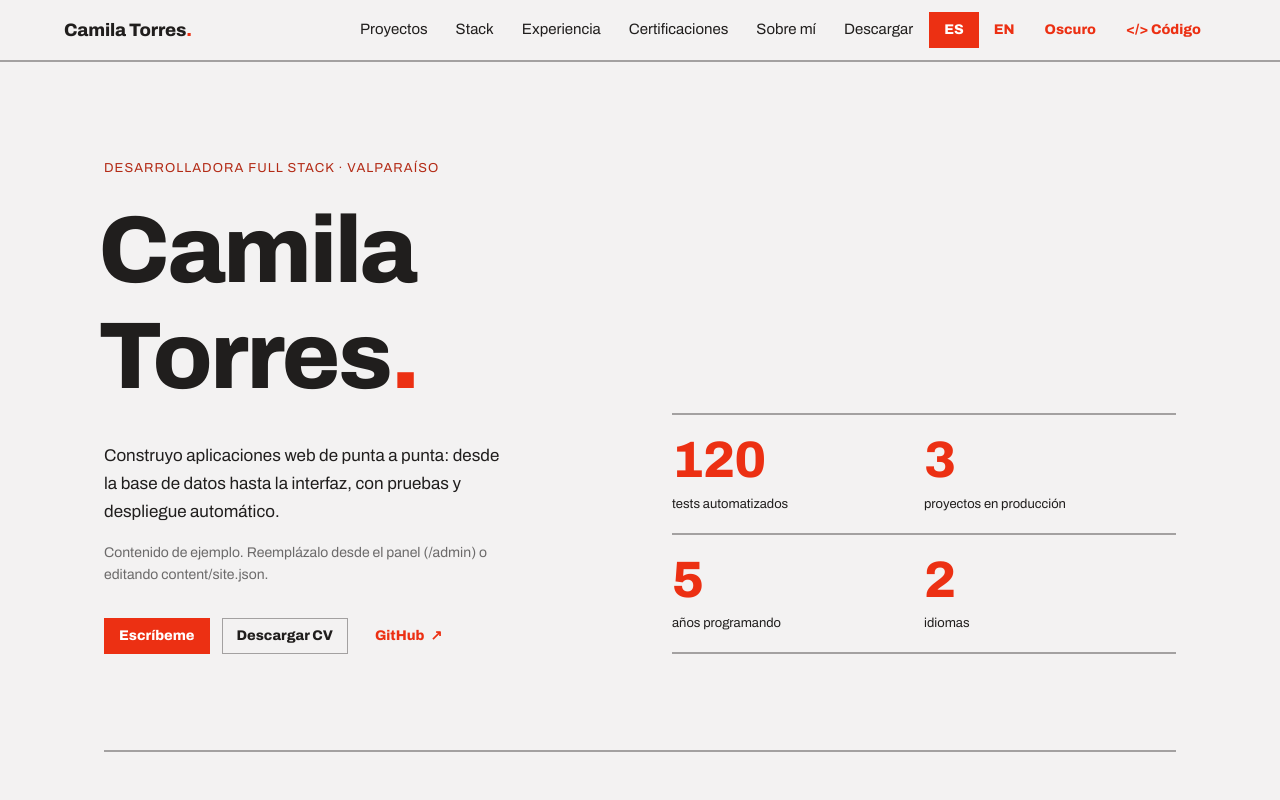
Scenario: SiteRenderer › numera las secciones con título y cambia de idioma
Click the button "en" at (1004, 30), box top-left (979, 12), bottom-right (1030, 48)
(page scrolled)
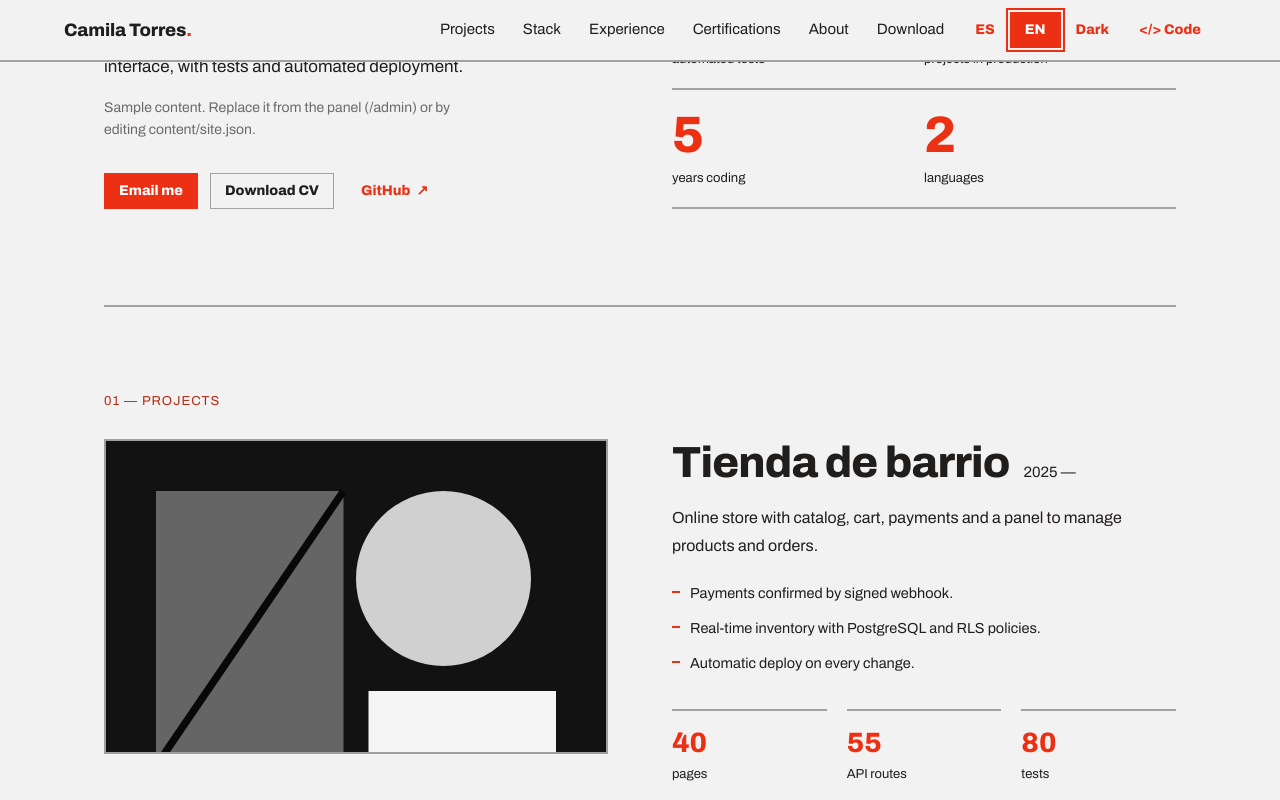
Expected: the text "01 — Projects" is shown, top-left (104, 394), bottom-right (220, 408)
